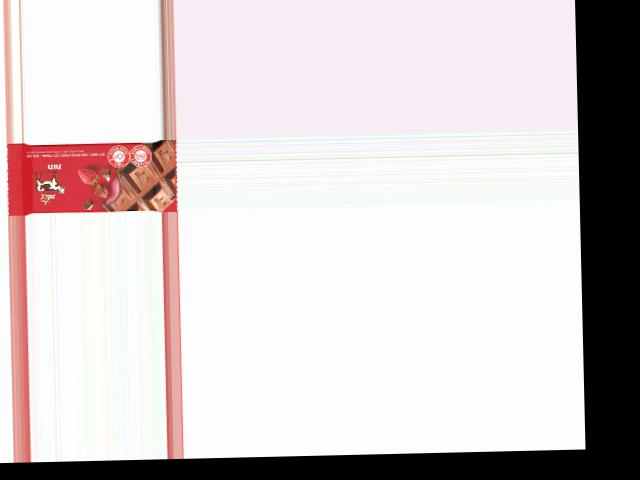chocolate: (5, 139, 176, 215)
